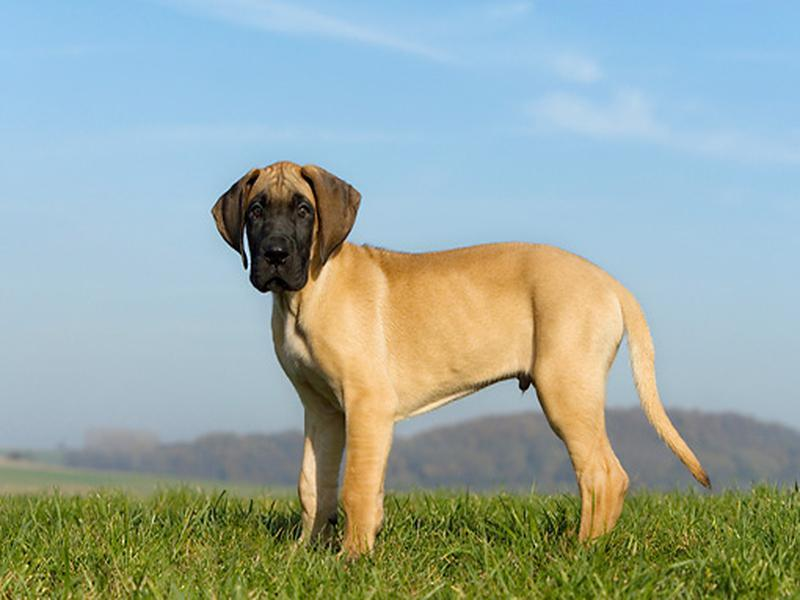dog_stand: (206, 157, 715, 573)
